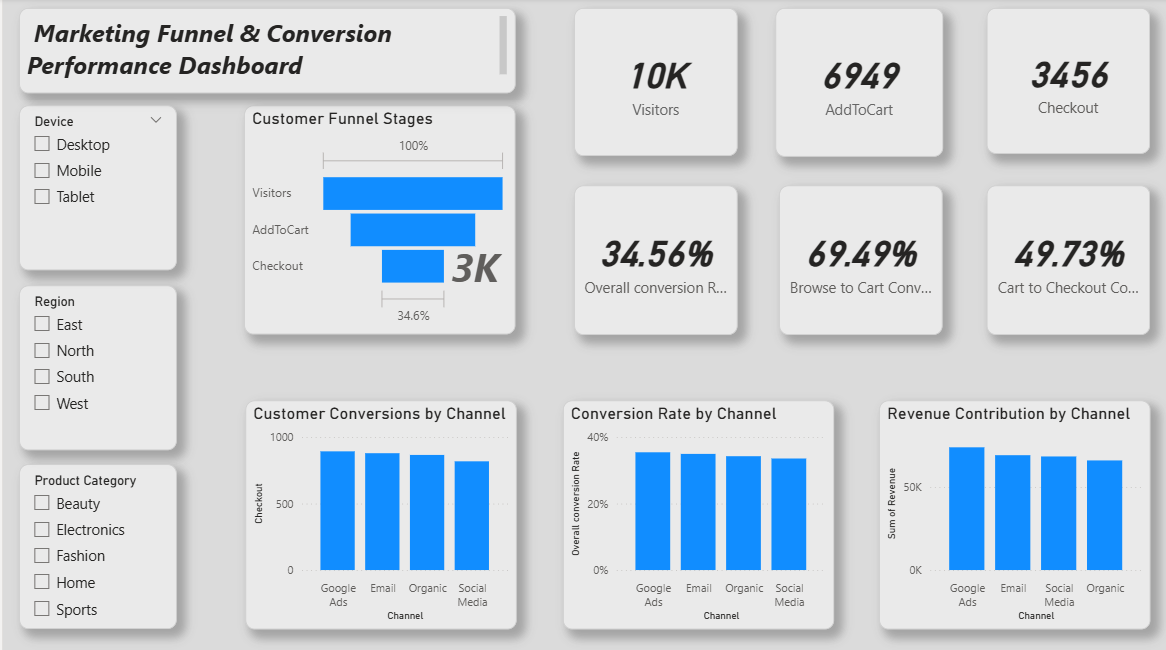

This screenshot's page, from the dashboard's own definition file:
{"tool":"powerbi","page":{"name":"Dashboard","canvas":[1280,720],"ordinal":0},"visuals":[{"type":"card","fields":{"Values":["Funnel_Analysis_Data.Checkout"]},"box":[1080.6,11.1,179.2,159.7],"z":0},{"type":"card","fields":{"Values":["Funnel_Analysis_Data.AddToCart"]},"box":[848,11,183.9,163.3],"z":1000},{"type":"card","fields":{"Values":["Funnel_Analysis_Data.Visitors"]},"box":[627.8,11.1,179.2,162.5],"z":2000},{"type":"funnel","title":"Customer Funnel Stages","fields":{"Y":["Funnel_Analysis_Data.Visitors","Funnel_Analysis_Data.AddToCart","Funnel_Analysis_Data.Checkout"]},"box":[264.8,118,297.8,251.1],"z":3000},{"type":"card","fields":{"Values":["Funnel_Analysis_Data.Overall_Conversion %"]},"box":[627.8,205.6,179.2,163.9],"z":4000},{"type":"card","fields":{"Values":["Funnel_Analysis_Data.Cart_to_Checkout %"]},"box":[1080.6,205.6,179.2,163.9],"z":5000},{"type":"card","fields":{"Values":["Funnel_Analysis_Data.Browse_to_Cart %"]},"box":[852.8,205.6,179.2,163.9],"z":6000},{"type":"textbox","box":[17.8,11,544.8,93.3],"z":7000},{"type":"clusteredColumnChart","title":"Customer Conversions by Channel","fields":{"Category":["Funnel_Analysis_Data.Channel"],"Y":["Funnel_Analysis_Data.Checkout"]},"box":[266.2,441.9,297.8,251.1],"z":8000},{"type":"clusteredColumnChart","title":" Conversion Rate by Channel","fields":{"Category":["Funnel_Analysis_Data.Channel"],"Y":["Funnel_Analysis_Data.Overall_Conversion %"]},"box":[614.8,441.9,297.8,251.1],"z":9000},{"type":"clusteredColumnChart","title":" Revenue Contribution by Channel","fields":{"Category":["Funnel_Analysis_Data.Channel"],"Y":["Sum(Funnel_Analysis_Data.Revenue)"]},"box":[961.9,441.9,297.8,251.1],"z":10000},{"type":"slicer","fields":{"Values":["Funnel_Analysis_Data.Device"]},"box":[17.8,118,172.9,181.1],"z":11000},{"type":"slicer","fields":{"Values":["Funnel_Analysis_Data.Region"]},"box":[17.8,315.6,172.9,181.1],"z":12000},{"type":"slicer","fields":{"Values":["Funnel_Analysis_Data.Product Category"]},"box":[17.8,511.8,172.9,181.1],"z":13000}]}

Visuals, with their boxes in screenshot pixels (x1, y1, x2, y2), scaled from the page's 1280x720 canvas onto the 1166x650 screenshot:
card - Funnel_Analysis_Data.Checkout: left=984, top=10, right=1148, bottom=154
card - Funnel_Analysis_Data.AddToCart: left=772, top=10, right=940, bottom=157
card - Funnel_Analysis_Data.Visitors: left=572, top=10, right=735, bottom=157
"Customer Funnel Stages" funnel: left=241, top=107, right=512, bottom=333
card - Funnel_Analysis_Data.Overall_Conversion %: left=572, top=186, right=735, bottom=334
card - Funnel_Analysis_Data.Cart_to_Checkout %: left=984, top=186, right=1148, bottom=334
card - Funnel_Analysis_Data.Browse_to_Cart %: left=777, top=186, right=940, bottom=334
textbox: left=16, top=10, right=512, bottom=94
"Customer Conversions by Channel" clusteredColumnChart: left=242, top=399, right=514, bottom=626
" Conversion Rate by Channel" clusteredColumnChart: left=560, top=399, right=831, bottom=626
" Revenue Contribution by Channel" clusteredColumnChart: left=876, top=399, right=1148, bottom=626
slicer - Funnel_Analysis_Data.Device: left=16, top=107, right=174, bottom=270
slicer - Funnel_Analysis_Data.Region: left=16, top=285, right=174, bottom=448
slicer - Funnel_Analysis_Data.Product Category: left=16, top=462, right=174, bottom=626
